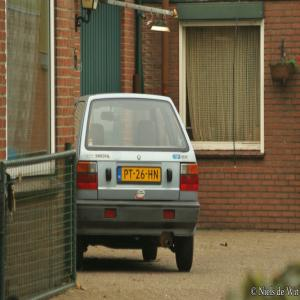Vehicle-registration-plate: (118, 166, 163, 185)
